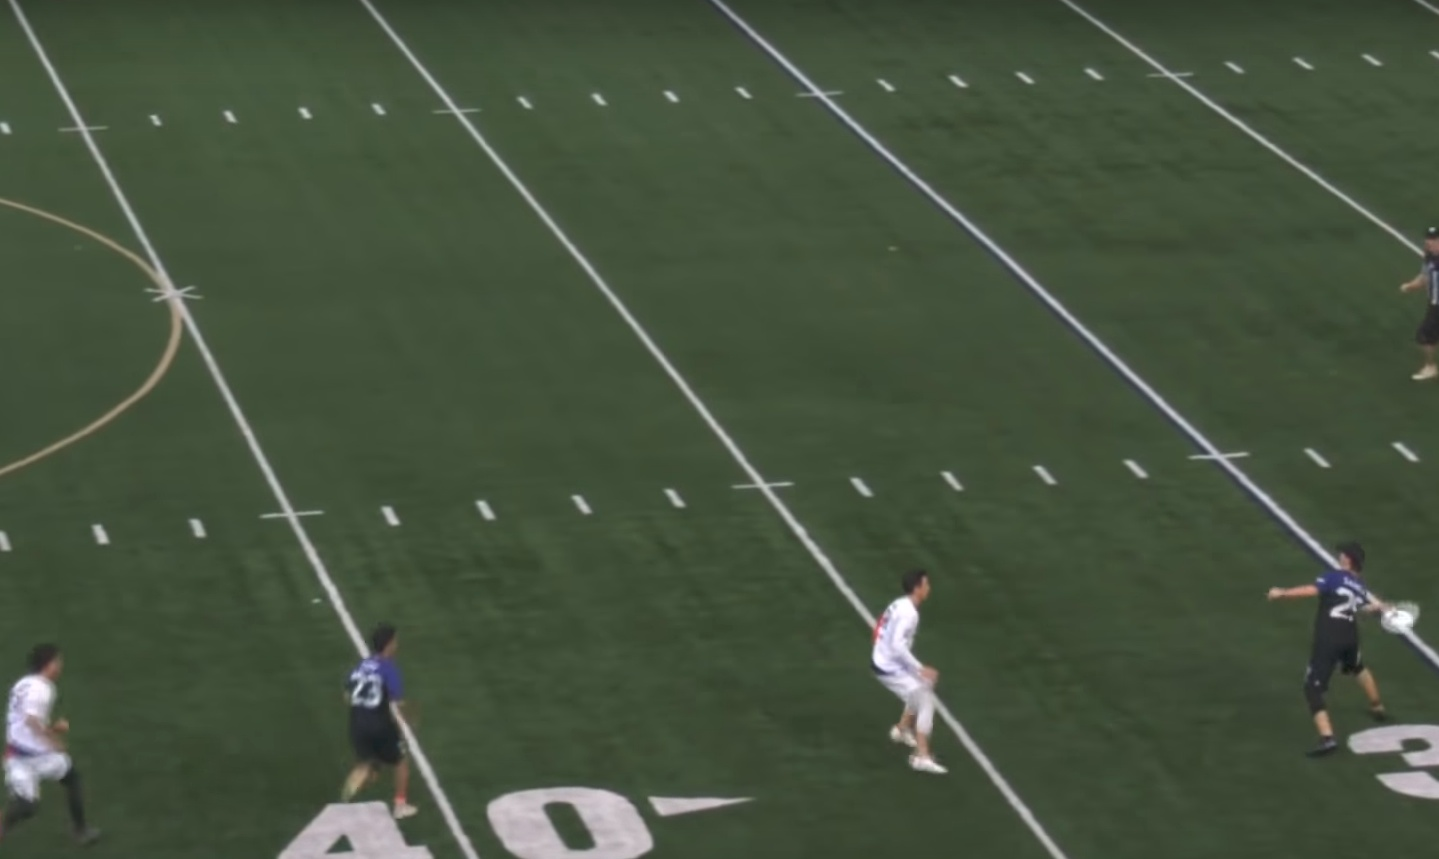frisbee: (1380, 602, 1420, 633)
